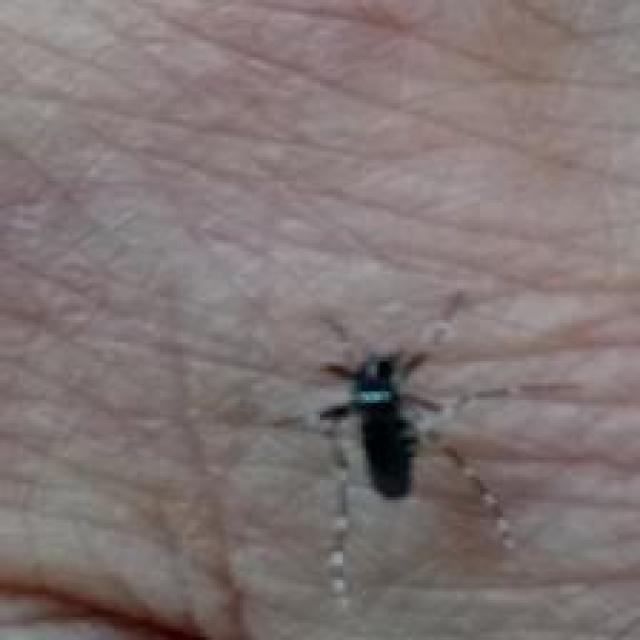Aedes albopictus: (271, 343, 520, 597)
